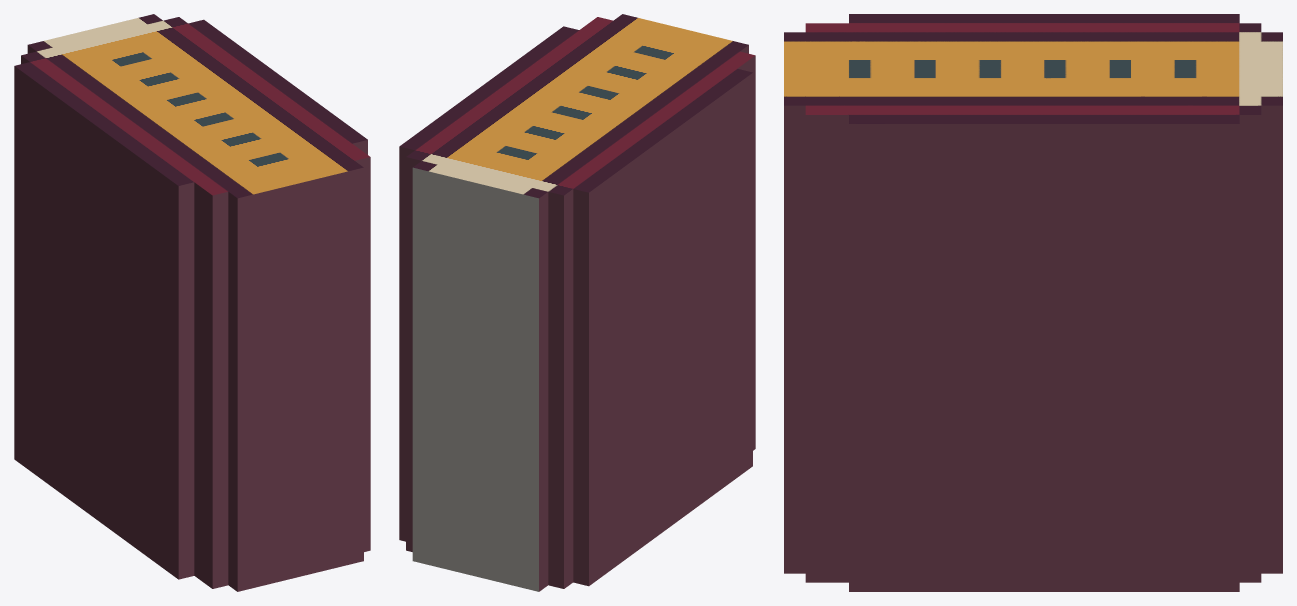
Rendered from book2-1.glb.
3 views of the same model, side by side, from view 1: azimuth 30°, elevation 25°; view 2: azimuth 150°, elevation 25°; view 3: azimuth 270°, elevation 25° (orthographic). The views are drawn at different scales.
Visible parts, largest first — view 1: book2-1-col; view 2: book2-1-col; view 3: book2-1-col.
Part boxes in pixels (bbox=[...]): book2-1-col: bbox=[14, 14, 370, 591]; book2-1-col: bbox=[399, 14, 755, 591]; book2-1-col: bbox=[784, 14, 1282, 591].
Bounding box in the file's own units: 0.375 × 0.7439 × 0.7188.
Materials: 3 (1 with a texture image).
